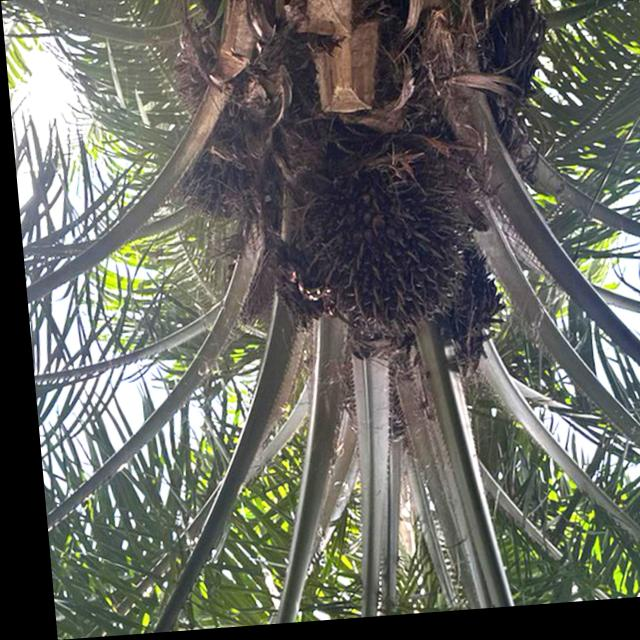ripe: (280, 144, 483, 366)
